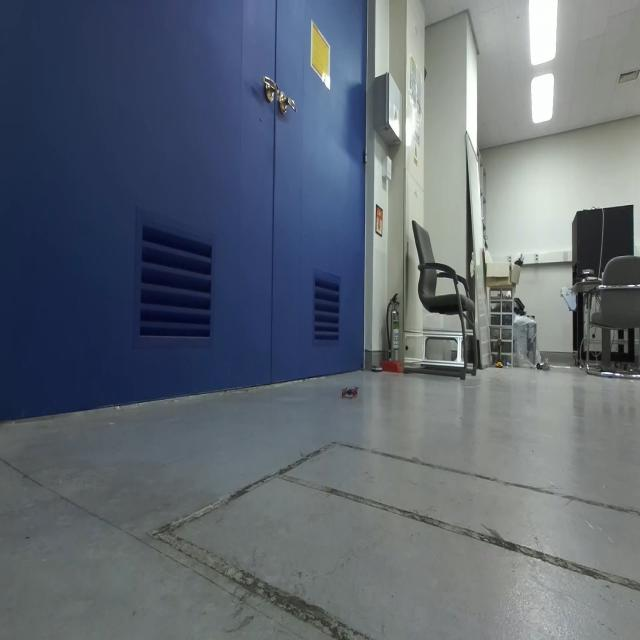crazyflie: (339, 380, 361, 404)
